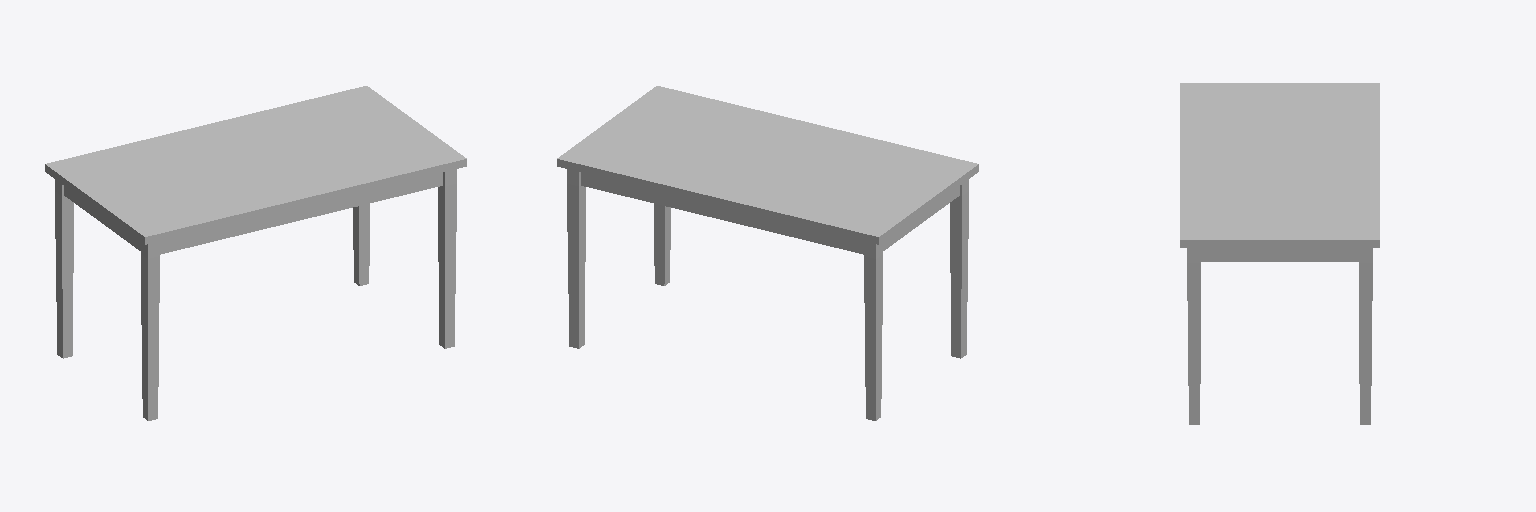
Rendered from old_wooden_table.obj.
The picture shows the model from 3 angles: view 1: azimuth 30°, elevation 25°; view 2: azimuth 150°, elevation 25°; view 3: azimuth 270°, elevation 25°; orthographic projection.
Visible parts, largest first — view 1: old_wooden_table; view 2: old_wooden_table; view 3: old_wooden_table.
Boxes of the visible parts, x1=… form: old_wooden_table: x1=45, y1=86, x2=466, y2=420; old_wooden_table: x1=557, y1=86, x2=978, y2=420; old_wooden_table: x1=1180, y1=83, x2=1379, y2=424.
Size of the model in its own units: 130 by 73 by 70.